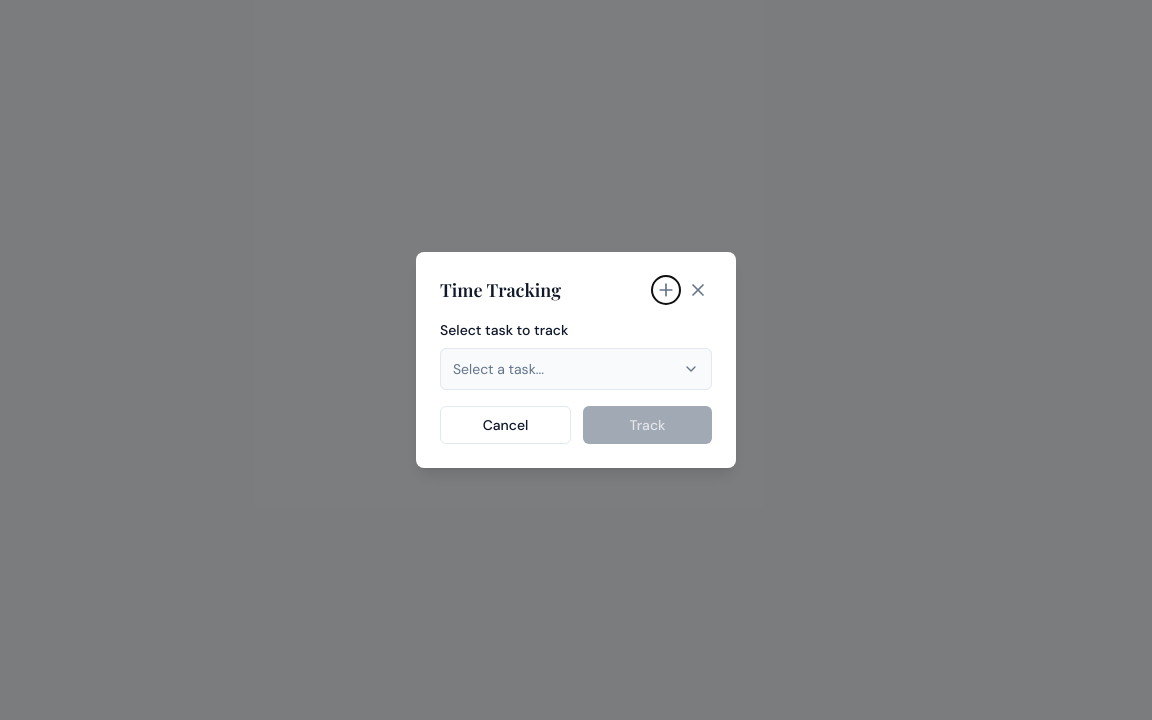
Test: TimeTrackingModal › saving manual entry › should show success feedback after saving (AC #7)
// Open manual entry
Click the button named "Add manual time entry". click: (666, 290)
box: [652,276,680,304]
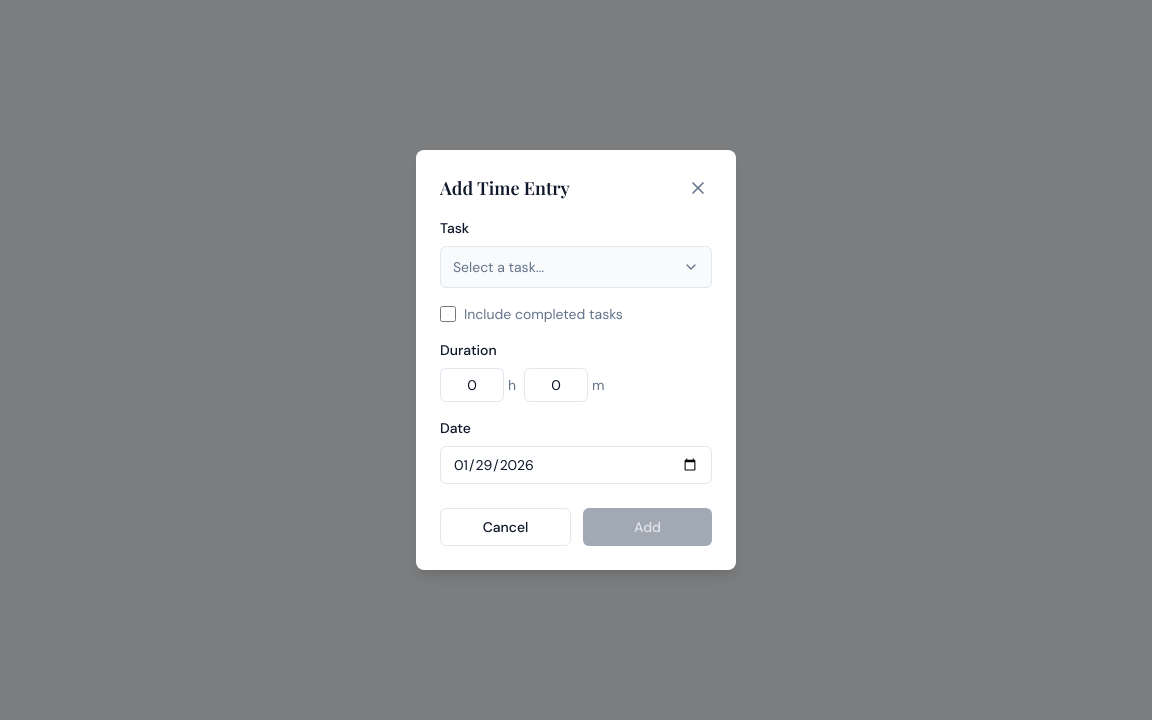
// Select task
Click the dropdown. click: (499, 267)
box: [440,246,712,288]
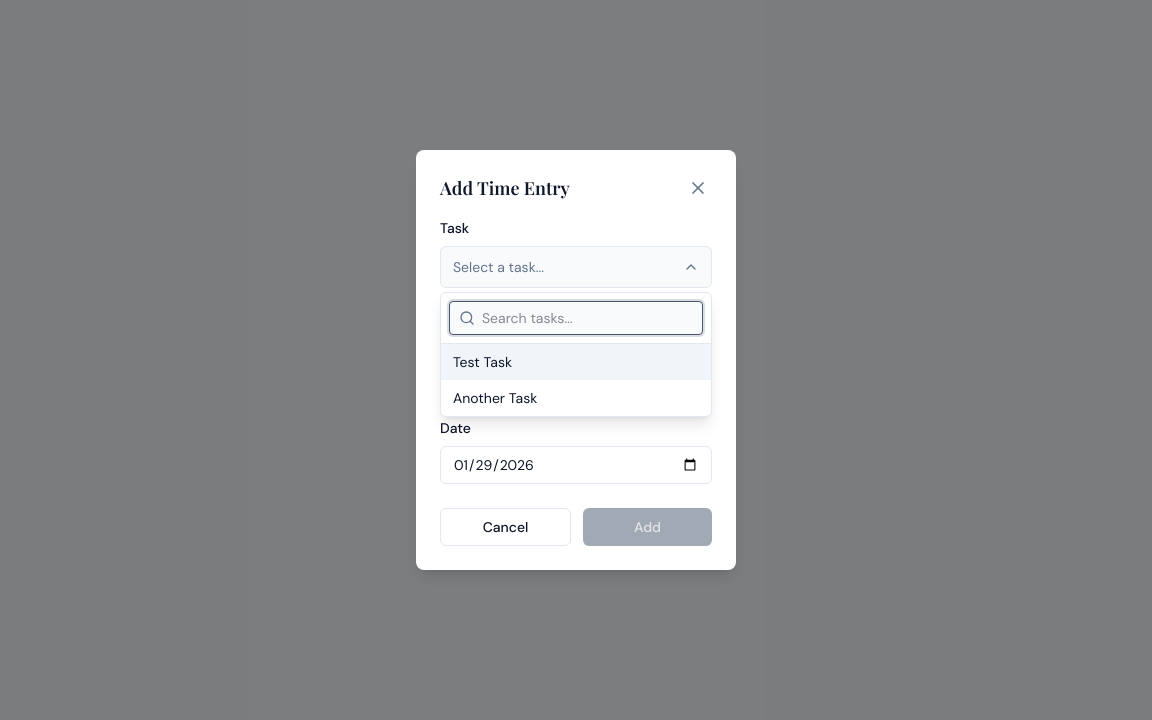
Now the text "Test Task" is shown, box [453,352,512,372]
Click the option "Test Task". click: (482, 362)
box: [441,344,711,380]
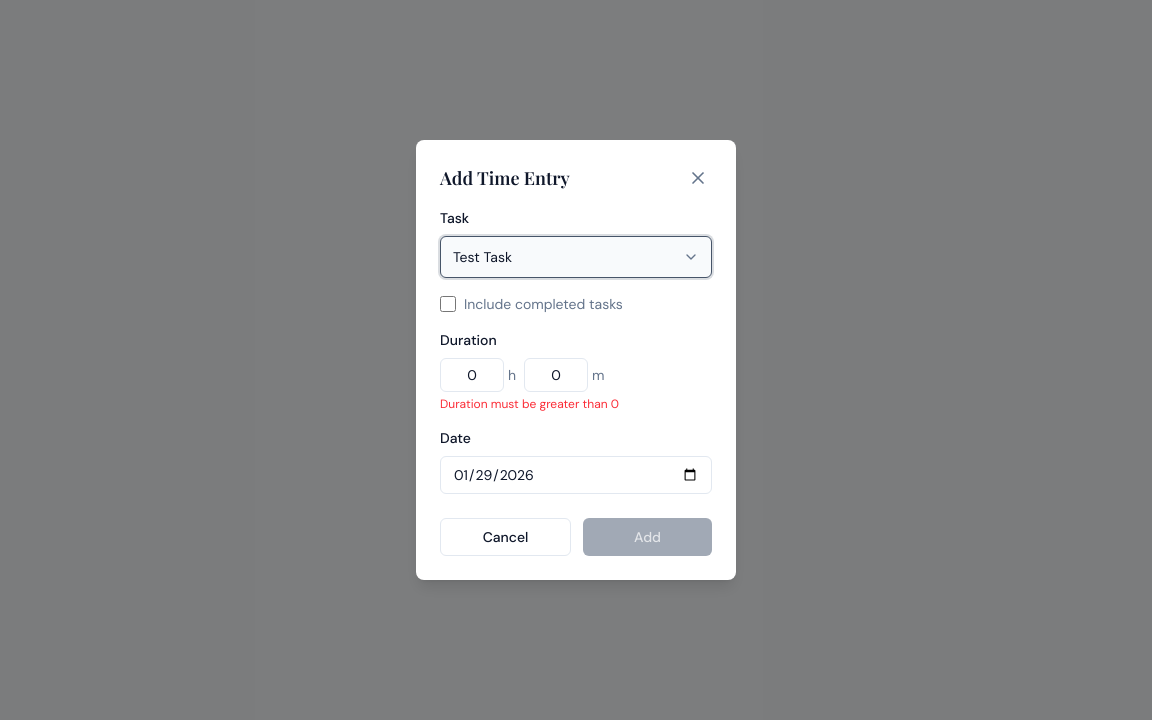
// Enter duration
Replace the text in the number field named "Hours" with "1". click: (472, 375)
box: [440,358,504,392]
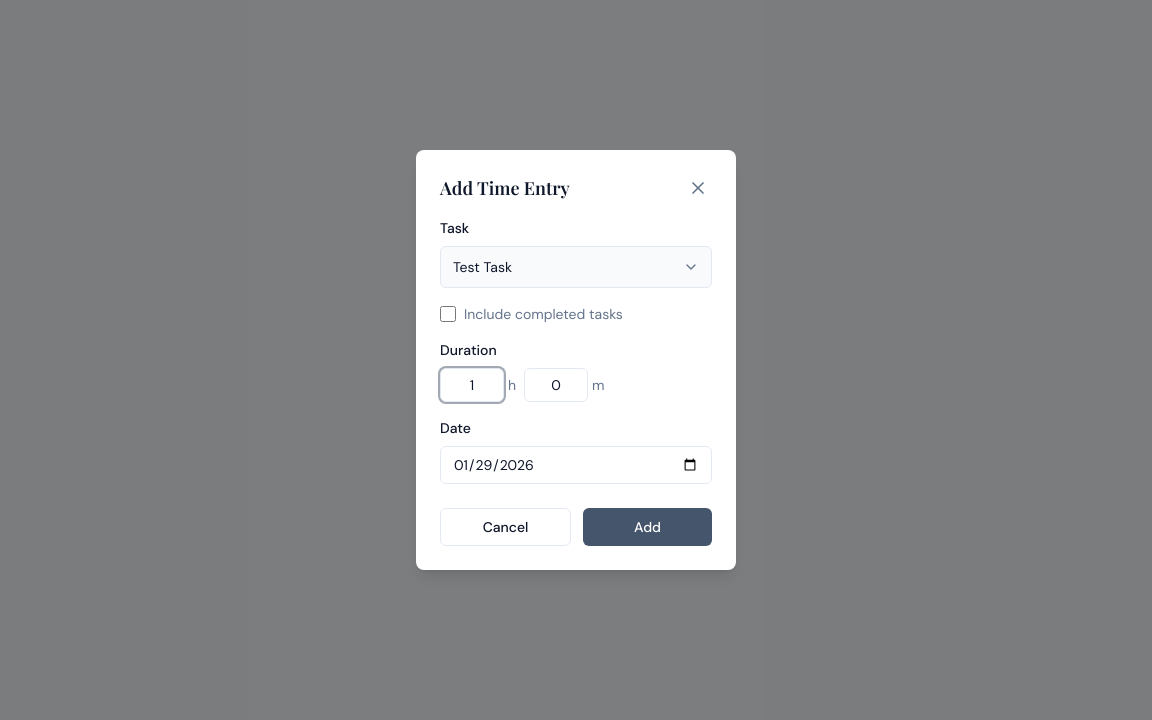
Click the button "Add". click: (648, 527)
box: [583,508,712,546]
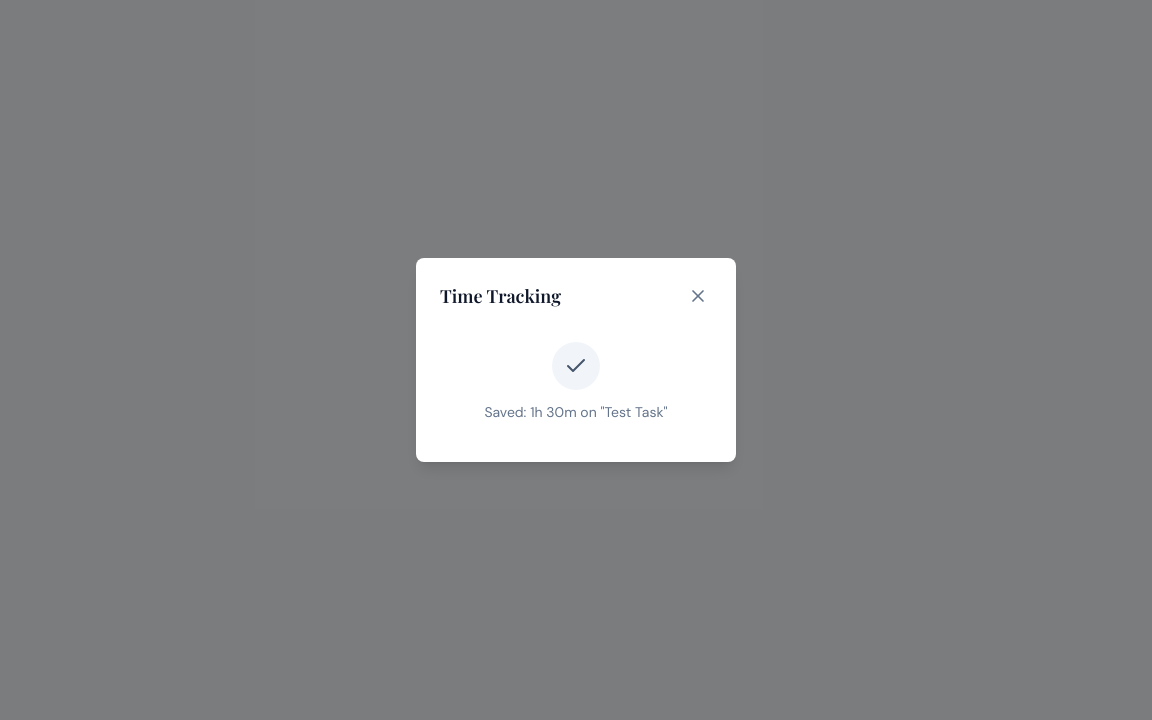
Now the text "Saved: 1h 30m on \"Test Task\"" is shown, box [484,403,668,421]
